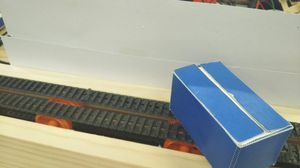box3: (167, 59, 293, 168)
